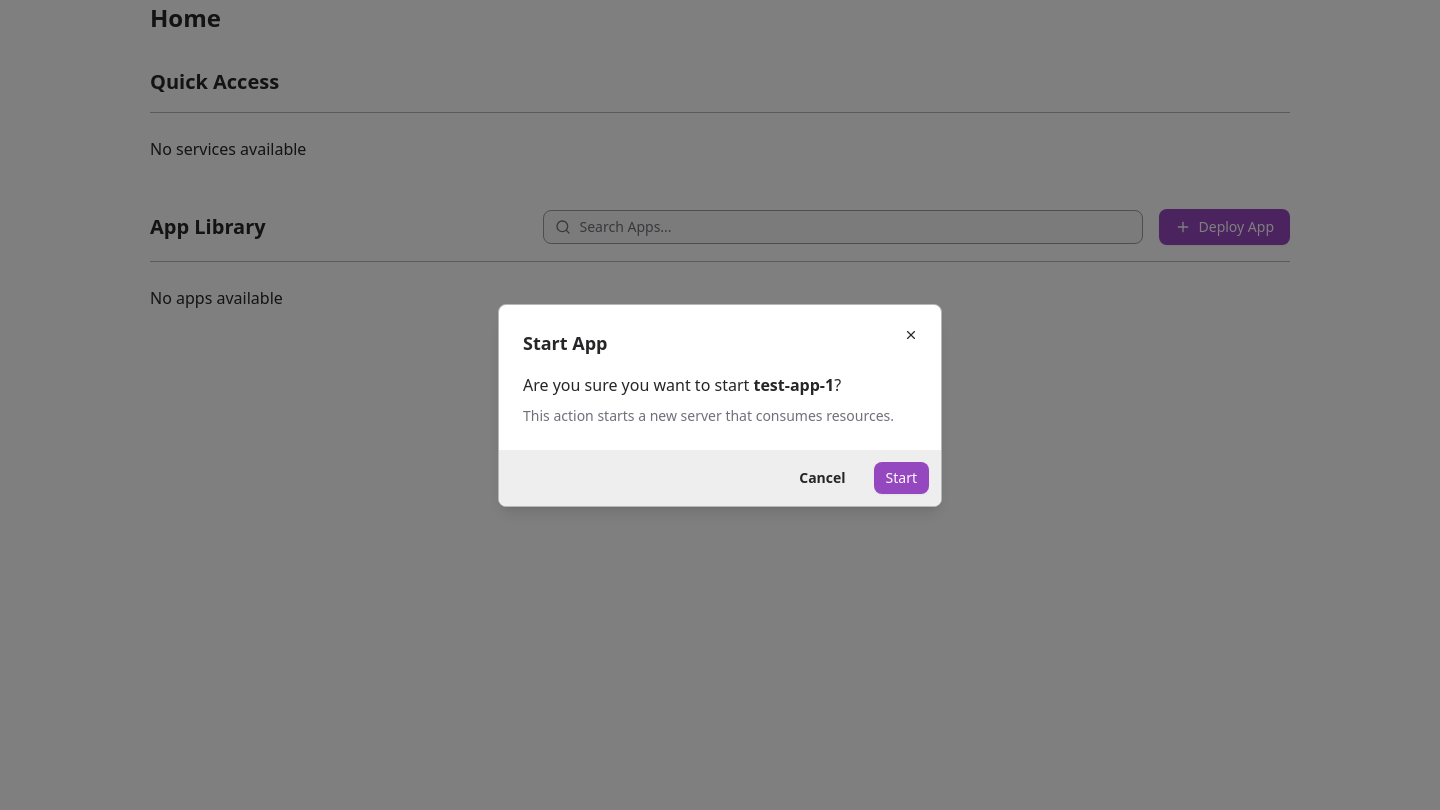
Test: Home › should render with start modal and submit with success snackbar
Expected: the dialog with test id "StartModal" is shown, [498,304,942,506]
Click the button with id "start-btn".
click(901, 478)  # box [874,462,929,494]
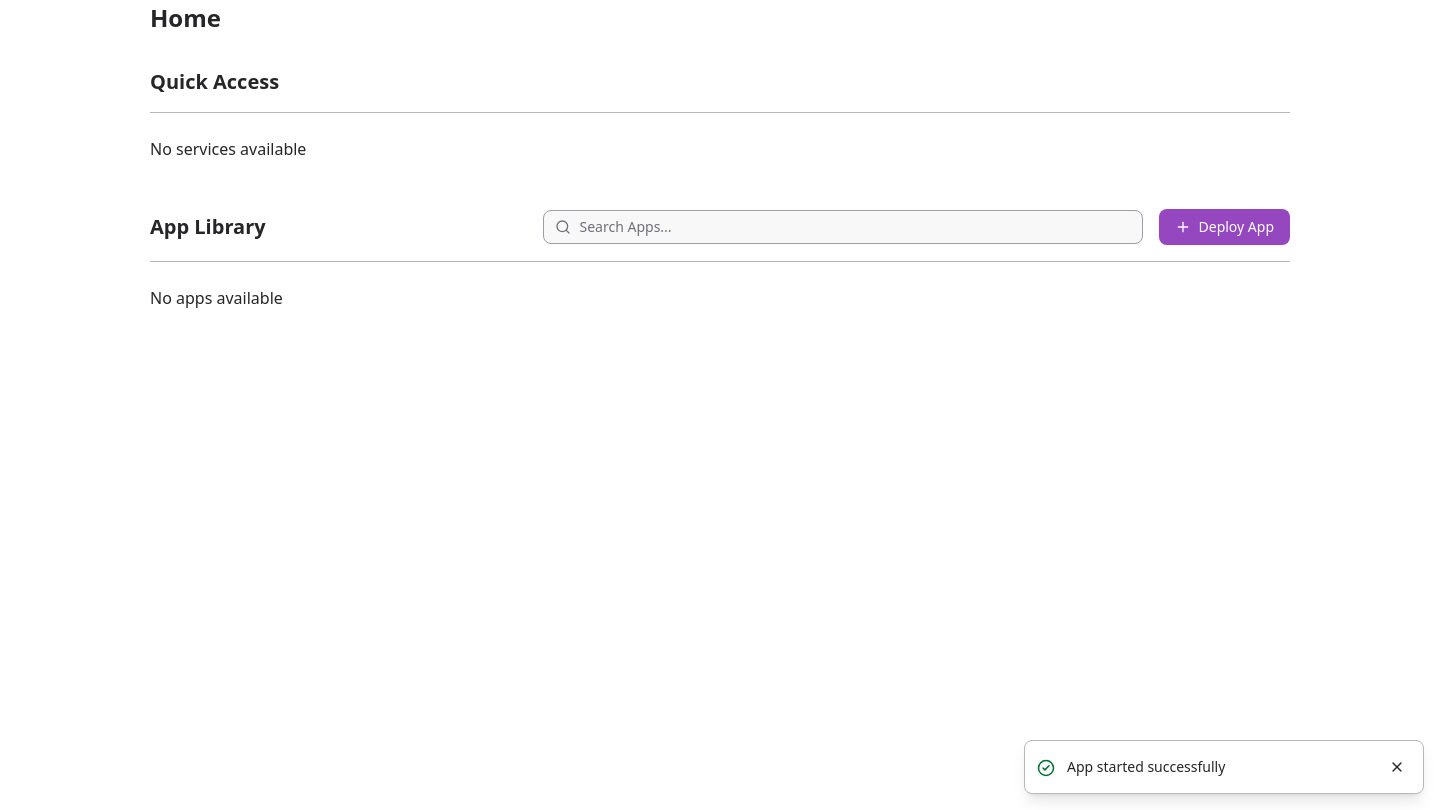
Expected: the heading "App started successfully" is shown, [1067,757,1225,776]
